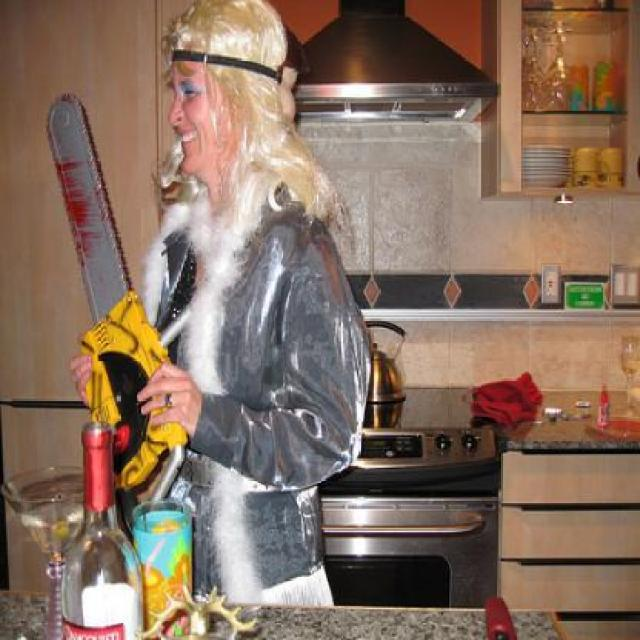Chainsaw: (43, 89, 194, 528)
